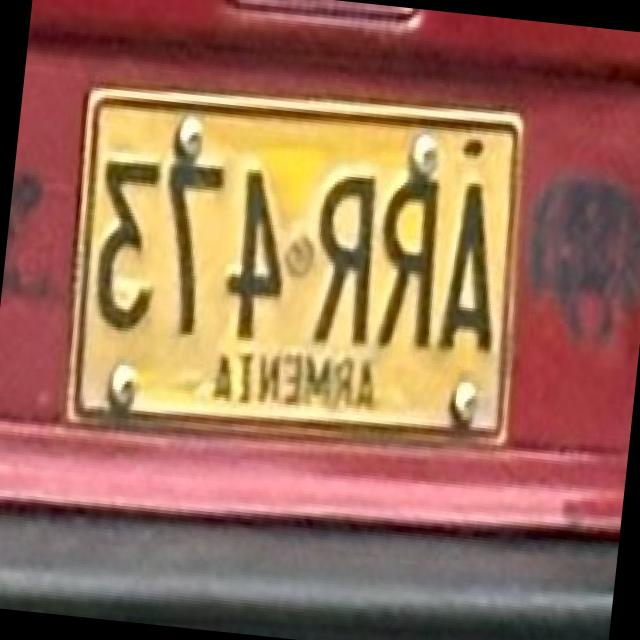number plate: (71, 86, 524, 433)
